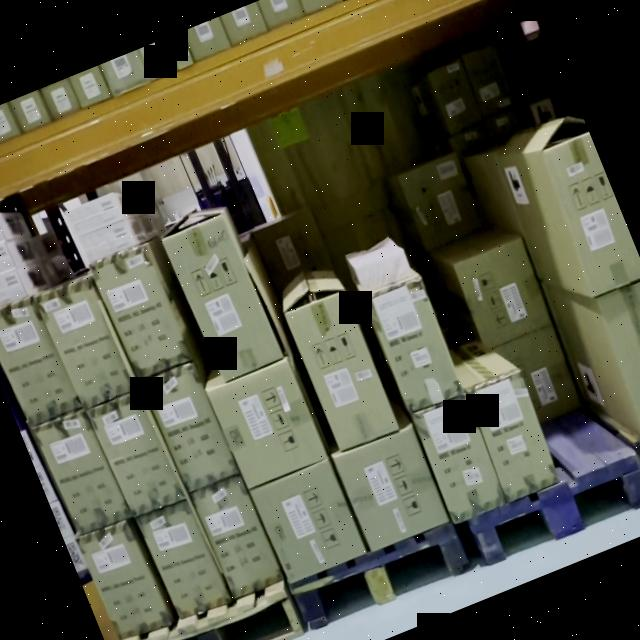box: (167, 214, 279, 379), (286, 290, 399, 451), (538, 133, 640, 294), (209, 358, 326, 487), (252, 456, 366, 582), (334, 426, 448, 550), (94, 245, 188, 378), (368, 279, 461, 411), (142, 362, 236, 492), (39, 276, 132, 406), (413, 395, 506, 524), (468, 374, 562, 499), (90, 392, 180, 516), (78, 518, 169, 640), (38, 410, 126, 532), (138, 498, 226, 618), (455, 240, 550, 348), (194, 477, 280, 596), (0, 298, 76, 425), (594, 276, 640, 436), (76, 220, 136, 264), (66, 193, 123, 235), (356, 248, 410, 288), (0, 269, 25, 313), (0, 241, 14, 283)
